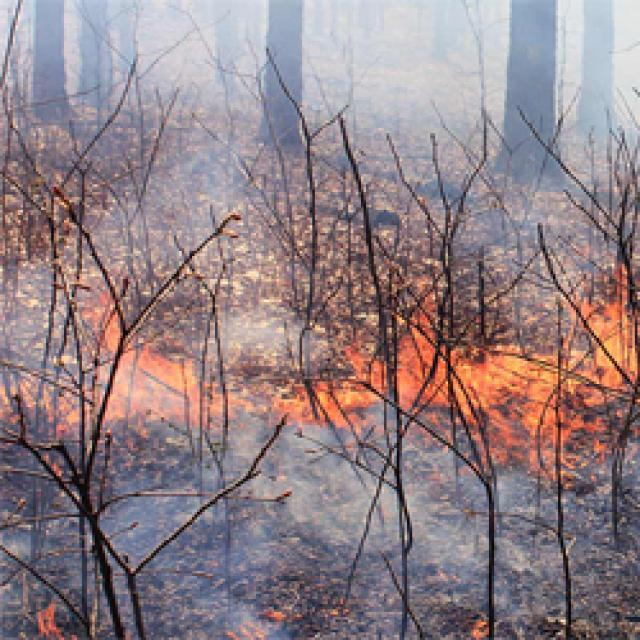Fire: (276, 276, 640, 481), (0, 303, 255, 437), (228, 608, 284, 640), (30, 599, 73, 640), (470, 621, 488, 640)
Smoke: (0, 0, 640, 273), (0, 430, 407, 640), (411, 453, 640, 612), (0, 274, 89, 369), (179, 301, 309, 355)
